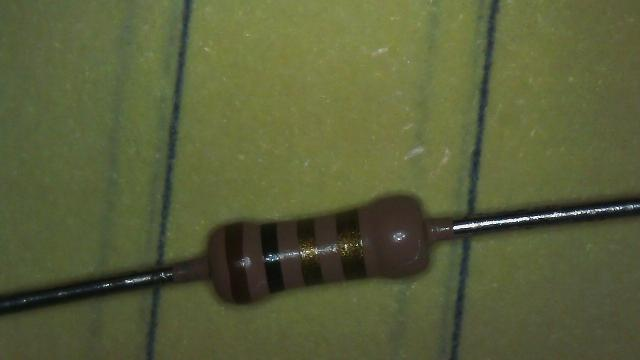black: (261, 224, 284, 294)
brown: (225, 224, 250, 302)
gold: (337, 210, 366, 280), (298, 219, 322, 284)
resistor: (198, 170, 452, 319)
